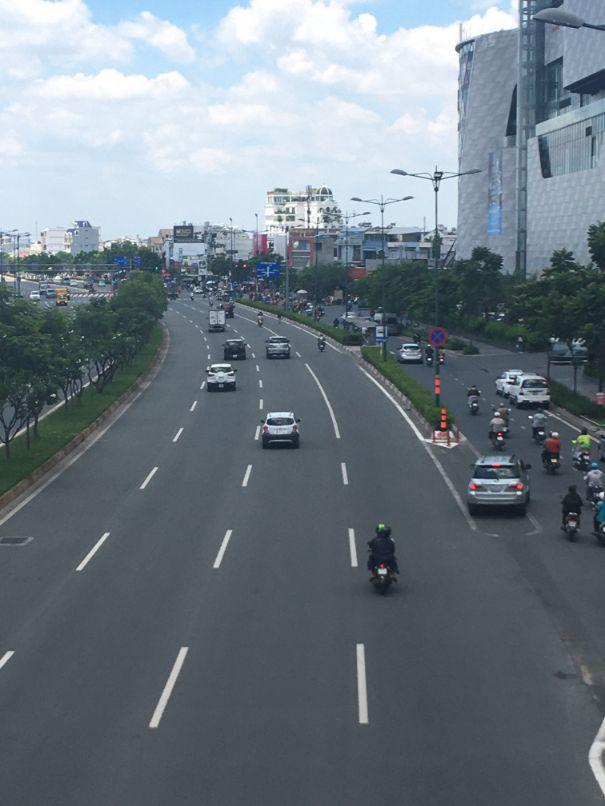car: (467, 455, 532, 514), (258, 411, 300, 450), (516, 377, 551, 408), (204, 362, 237, 391), (266, 335, 290, 359), (398, 342, 422, 365), (223, 338, 246, 360)
motorbike: (369, 559, 399, 595)
truck: (210, 307, 228, 329)
